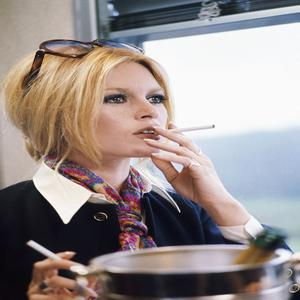cigarette: (25, 240, 89, 278), (161, 122, 223, 139)
